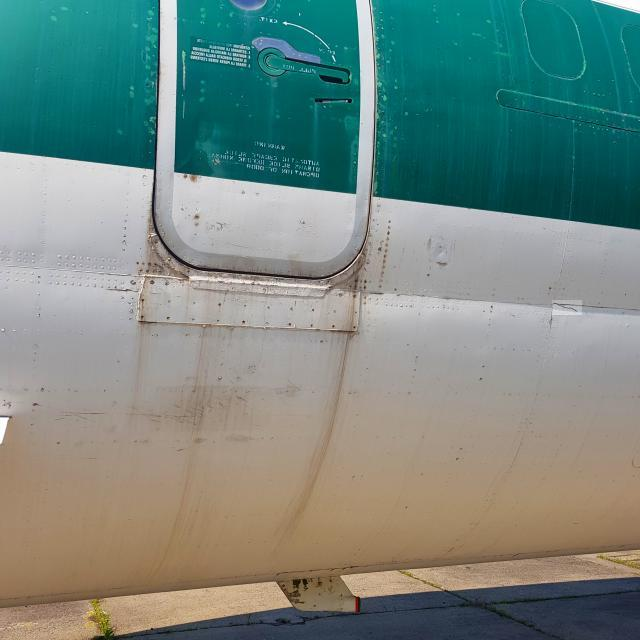crack: (553, 301, 583, 316)
